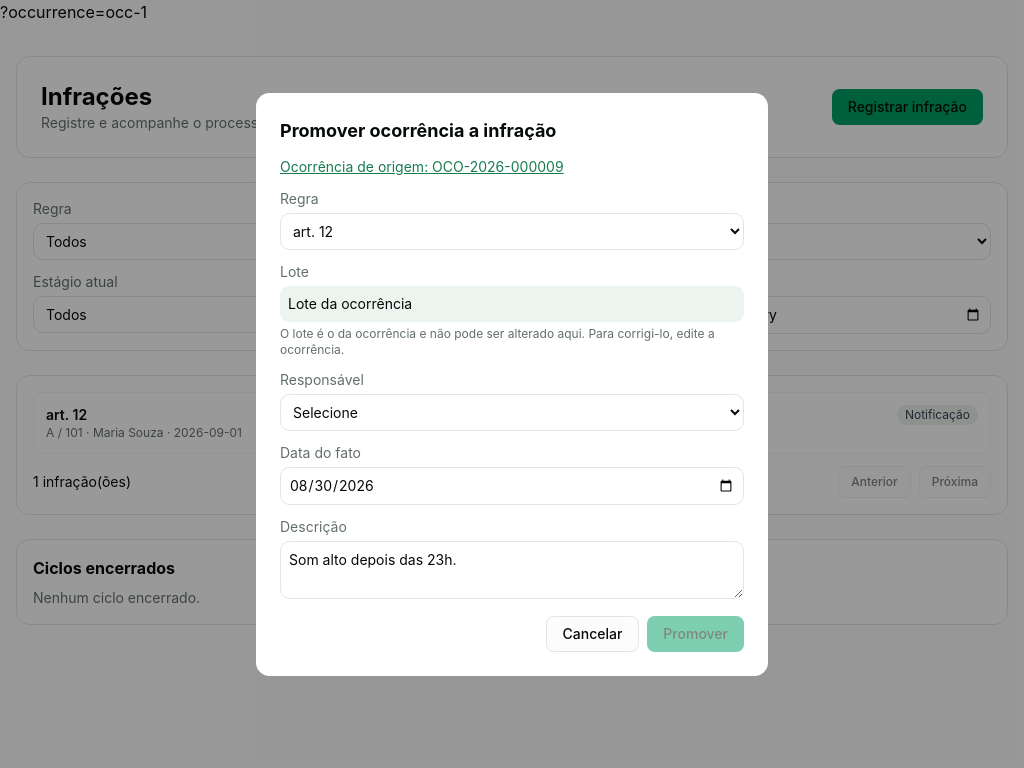
Test case: InfractionsPage — the occurrence bridge › closing the promote modal clears the parameter from the URL
Step 1. Click the button "Cancelar" → click(592, 634), box [546,616,639,652]
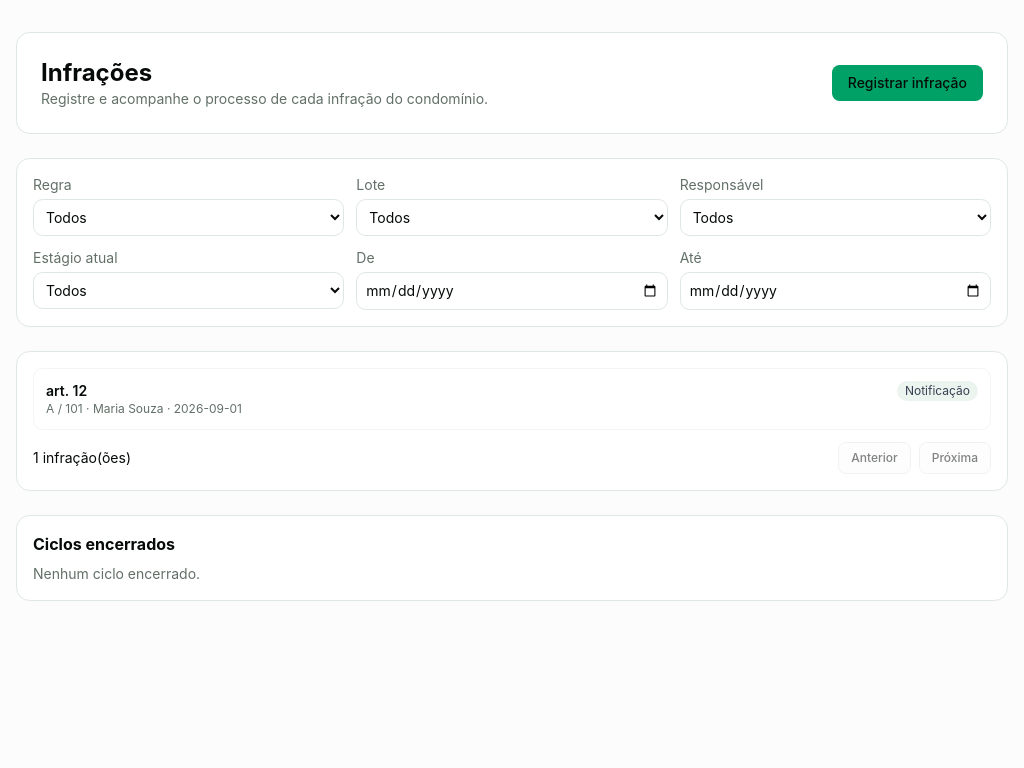
Now the element with test id "new-infraction-modal" is gone
